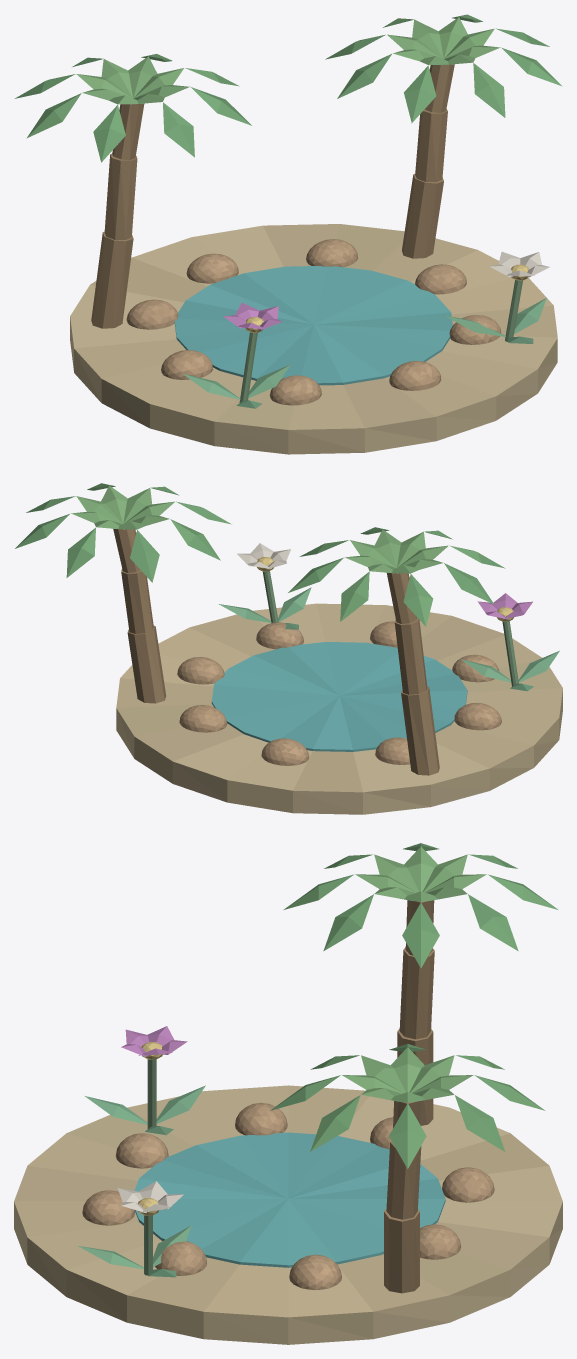
Rendered from oasis_orchid_palms.glb.
3 renders of one model, top to bottom at view 1: azimuth 30°, elevation 25°; view 2: azimuth 150°, elevation 25°; view 3: azimuth 270°, elevation 25°, orthographic. The views are drawn at different scales.
Visible parts, largest first — view 1: sand, pool, palm_left_trunk_0, palm_right_trunk_0, palm_left_trunk_1, palm_right_trunk_1, pool_stone_6, pool_stone_3, pool_stone_5, pool_stone_2, pool_stone_4, pool_stone_0 (+18 smaller); view 2: sand, pool, palm_left_trunk_0, palm_right_trunk_0, palm_left_trunk_1, palm_right_trunk_1, pool_stone_1, pool_stone_2, pool_stone_4, pool_stone_0, pool_stone_7, palm_left_trunk_2 (+22 smaller); view 3: sand, pool, palm_right_trunk_0, palm_left_trunk_1, palm_right_trunk_1, pool_stone_0, pool_stone_2, pool_stone_5, pool_stone_4, pool_stone_6, palm_left_frond_b_0, palm_right_frond_b_0 (+19 smaller).
Part boxes in pixels (<box>): sand: <box>70,224,557,454</box>; pool: <box>174,266,452,385</box>; palm_left_trunk_0: <box>91,231,133,328</box>; palm_right_trunk_0: <box>402,174,443,258</box>; palm_left_trunk_1: <box>104,153,137,239</box>; palm_right_trunk_1: <box>415,109,447,182</box>; pool_stone_6: <box>389,360,441,390</box>; pool_stone_3: <box>126,299,178,329</box>; pool_stone_5: <box>269,375,321,405</box>; pool_stone_2: <box>186,253,238,283</box>; pool_stone_4: <box>161,350,213,379</box>; pool_stone_0: <box>415,264,466,294</box>; sand: <box>116,603,562,814</box>; pool: <box>211,642,467,751</box>; palm_left_trunk_0: <box>401,686,439,775</box>; palm_right_trunk_0: <box>127,625,166,703</box>; palm_left_trunk_1: <box>394,617,427,694</box>; palm_right_trunk_1: <box>121,568,153,633</box>; pool_stone_1: <box>179,705,227,732</box>; pool_stone_2: <box>261,738,309,765</box>; pool_stone_4: <box>454,702,501,730</box>; pool_stone_0: <box>177,657,224,684</box>; pool_stone_7: <box>256,622,303,649</box>; palm_left_trunk_2: <box>387,573,416,623</box>; sand: <box>14,1085,562,1344</box>; pool: <box>134,1132,445,1267</box>; palm_right_trunk_0: <box>384,1208,419,1293</box>; palm_left_trunk_1: <box>399,947,434,1039</box>; palm_right_trunk_1: <box>386,1141,421,1219</box>; pool_stone_0: <box>289,1254,341,1290</box>; pool_stone_2: <box>442,1167,494,1202</box>; pool_stone_5: <box>115,1133,168,1168</box>; pool_stone_4: <box>235,1102,287,1135</box>; pool_stone_6: <box>82,1190,135,1225</box>; palm_left_frond_b_0: <box>402,903,439,967</box>; palm_right_frond_b_0: <box>389,1103,426,1168</box>.
Size of the model in its own units: 3.54 by 1.68 by 2.9.
